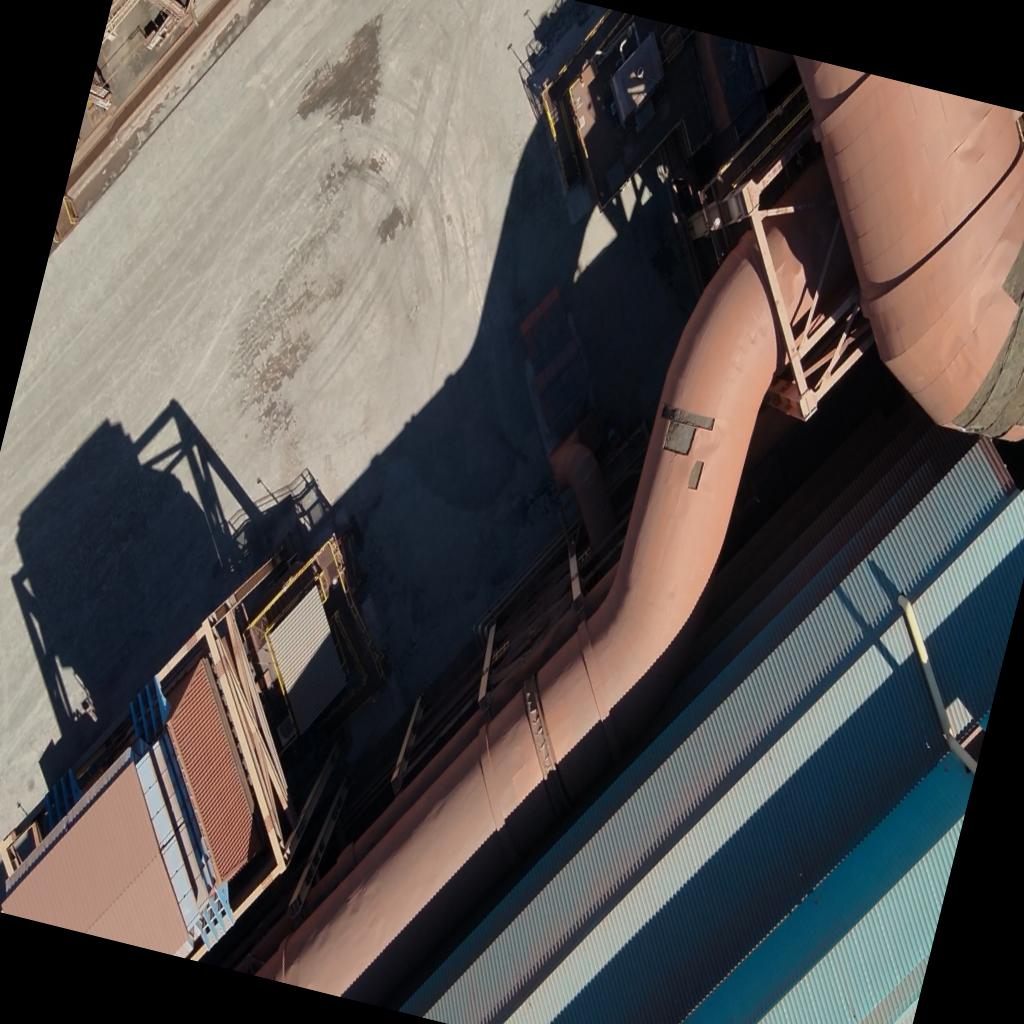Failures: (948, 187, 1024, 444), (654, 404, 712, 462), (681, 452, 708, 494)
